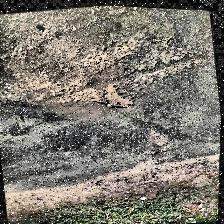pothole: (82, 76, 138, 114)
